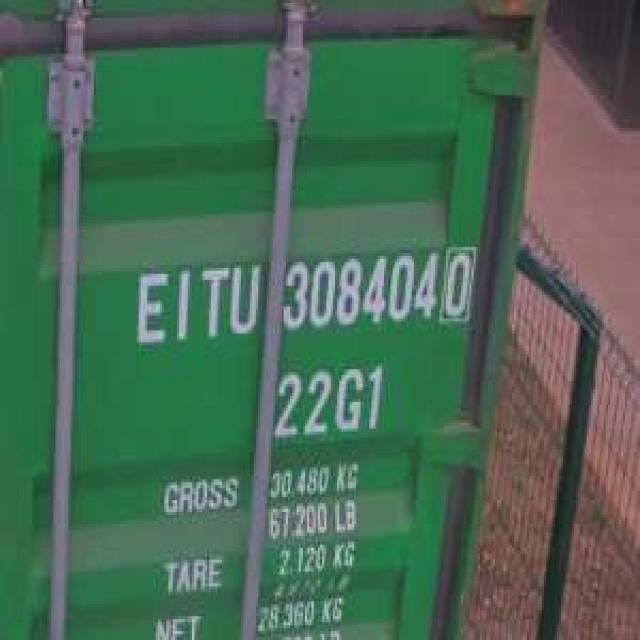dv: (437, 235, 478, 328)
owner: (128, 253, 262, 354)
serial: (278, 241, 438, 334)
size: (269, 357, 388, 444)
